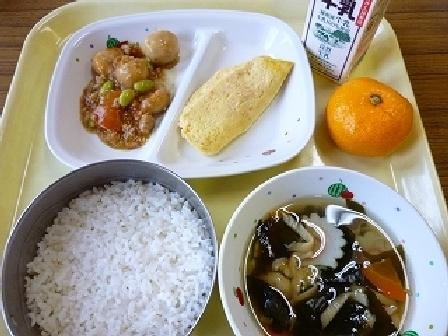Citrus: (320, 77, 420, 164)
Milk: (294, 0, 390, 71)
Rice: (1, 167, 220, 333)
Soups: (219, 169, 443, 334)
egg product: (175, 49, 300, 155)
vegetable based cooked food: (70, 30, 180, 140)
